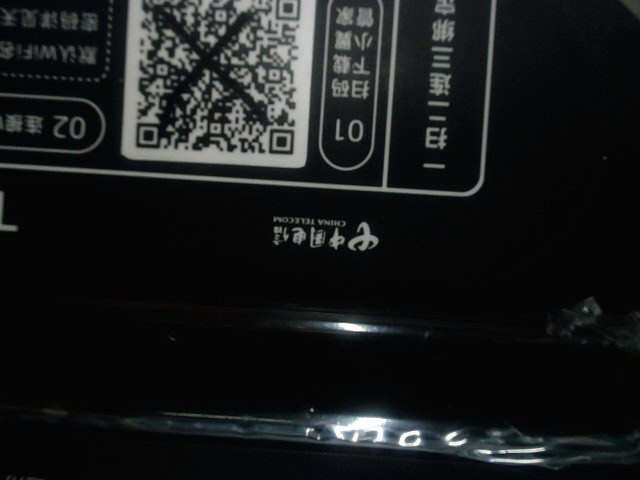AB_ChinaTelecom: (260, 207, 382, 255)
